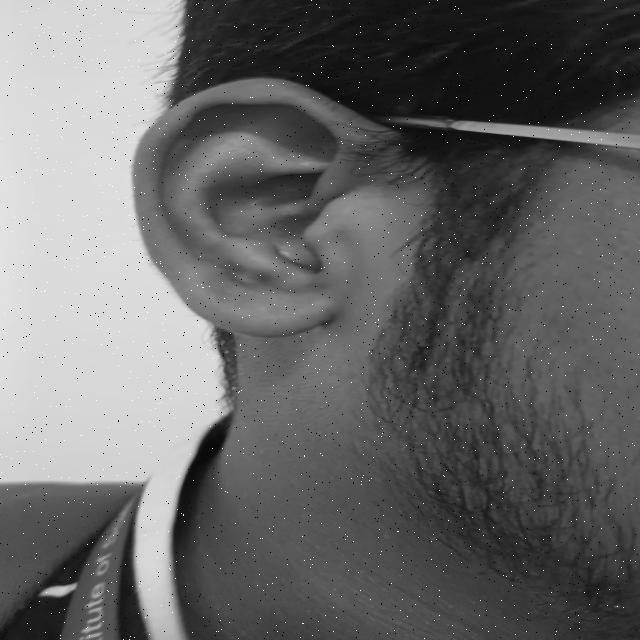ear: (134, 78, 369, 337)
